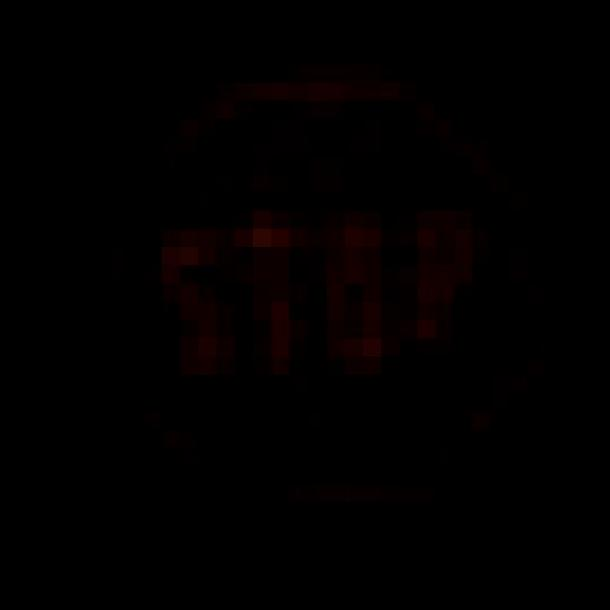stop_sign: (98, 64, 554, 521)
